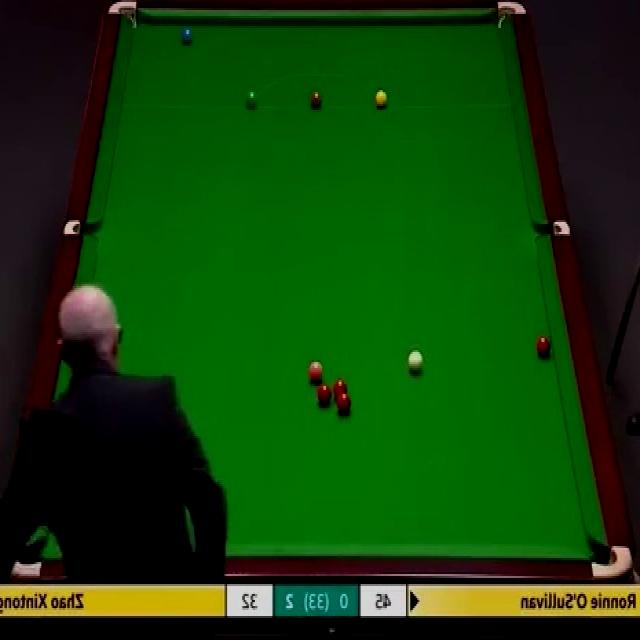blue-ball: (180, 27, 194, 46)
brown-ball: (310, 92, 323, 109)
green-ball: (244, 88, 258, 112)
pink-ball: (308, 361, 324, 384)
red-ball: (317, 383, 331, 410), (336, 392, 352, 414), (333, 378, 348, 401), (535, 336, 552, 356)
white-ball: (407, 349, 425, 377)
yellow-ball: (374, 89, 388, 110)
